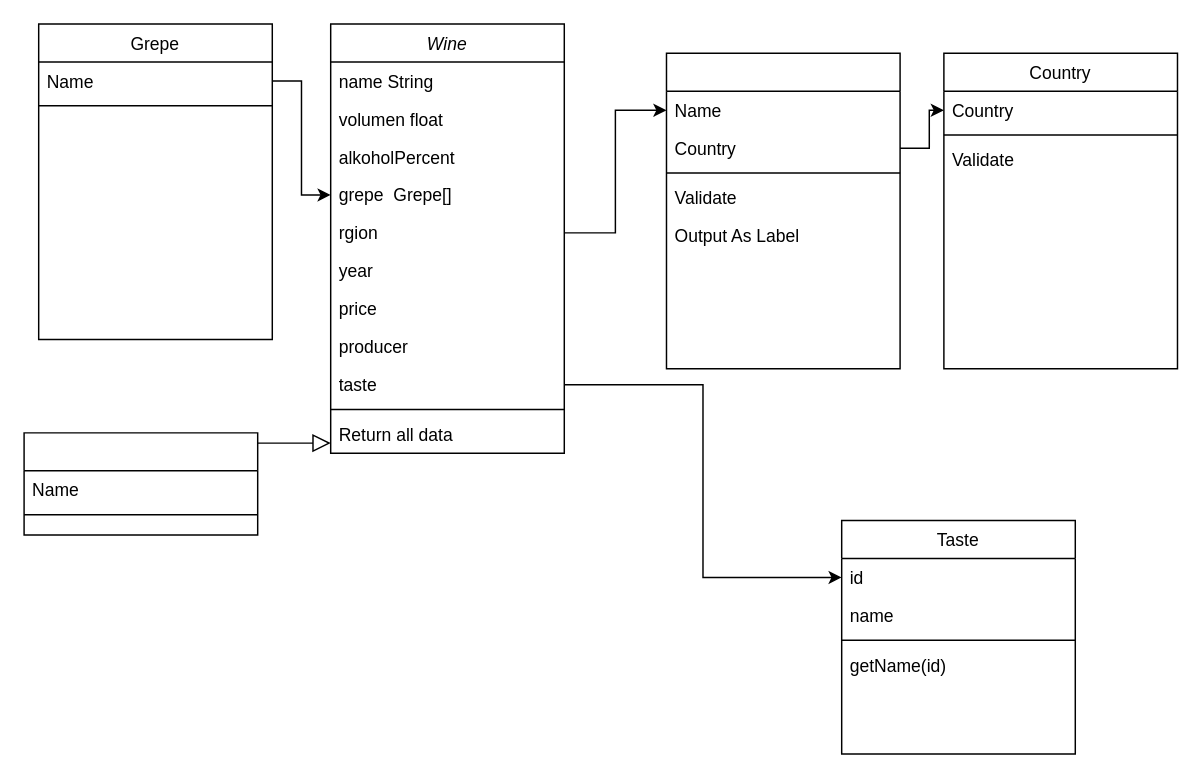
Image size: 1202x778. Some labels were removed from this diagram. Each missing label, with the box of its shape:
Region: (665, 52, 900, 369)
Sort: (23, 431, 258, 535)
